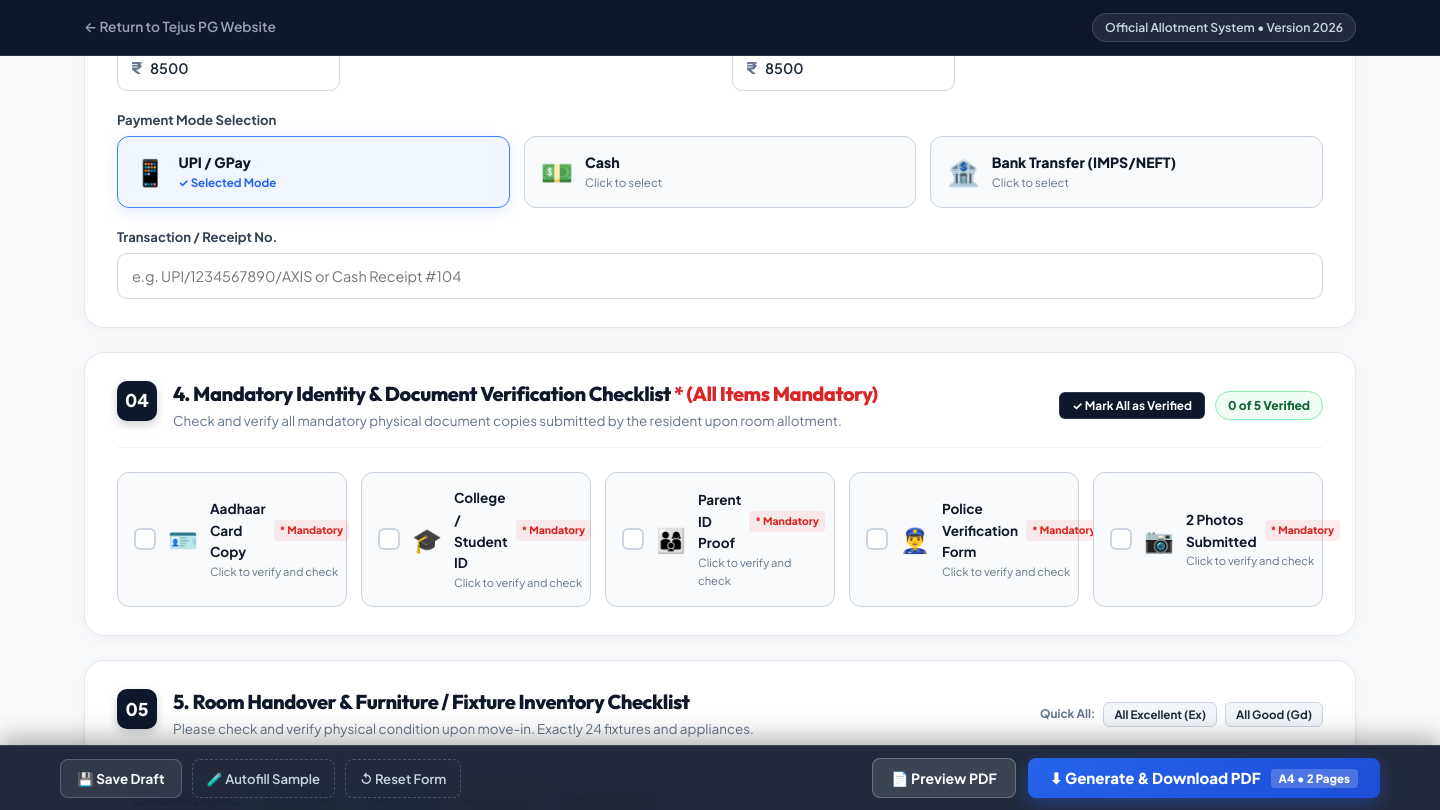
Scenario: RoomAllotmentForm Component › supports Mark All as Verified button in document checklist
(page scrolled)
Click the button "✓ Mark All as Verified" at (1132, 406), box [1059,392,1205,419]
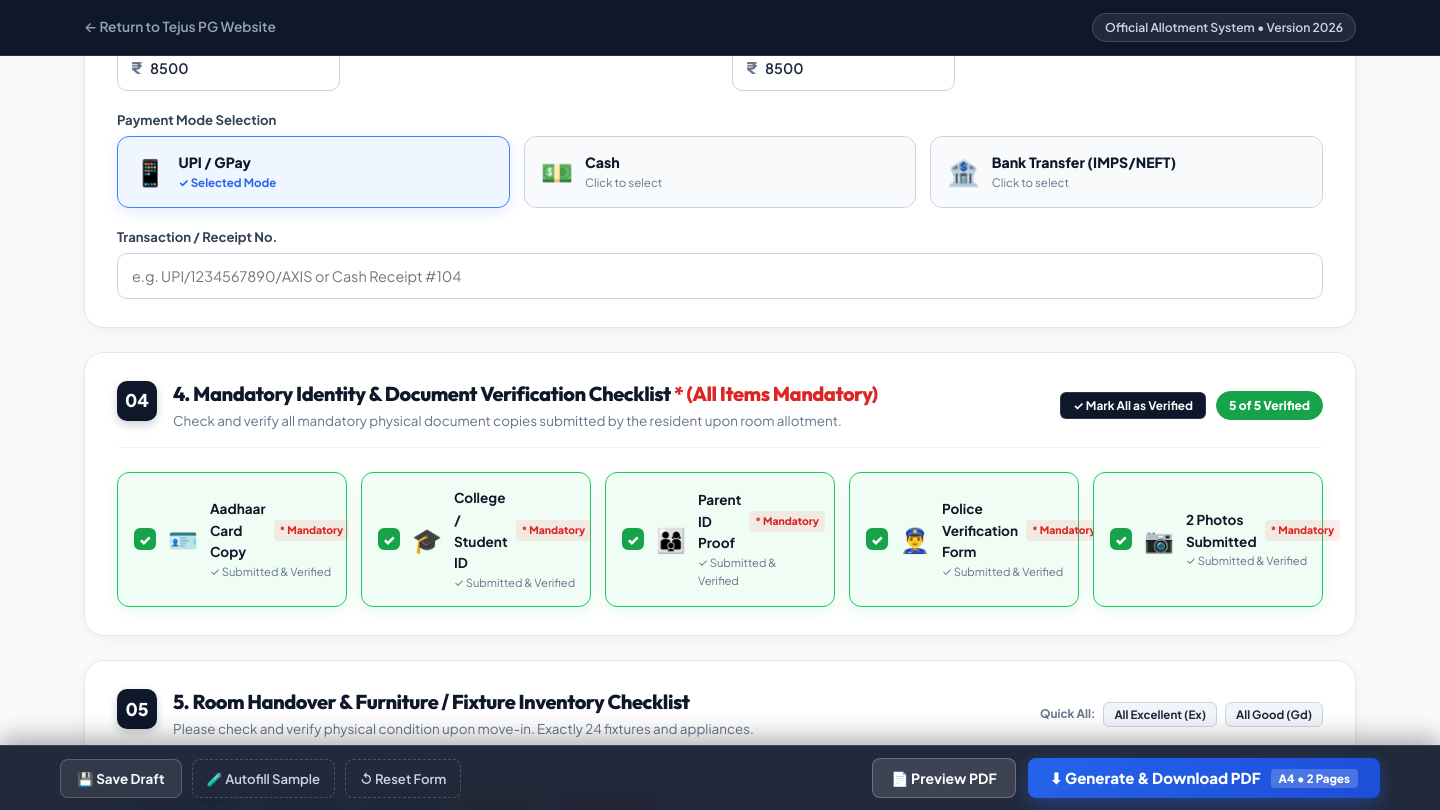
Expected: the text "5 of 5 Verified" is shown, [1216,391,1323,420]
